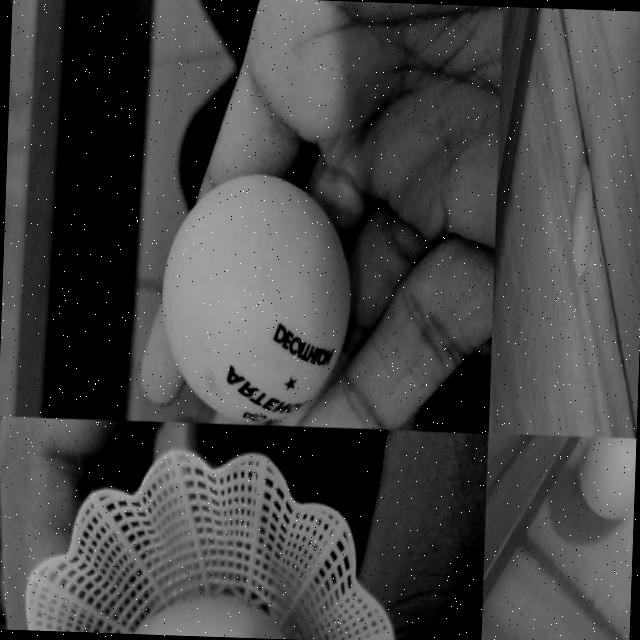ping-pong-ball: (153, 166, 349, 424), (576, 436, 636, 518), (568, 160, 592, 278)
